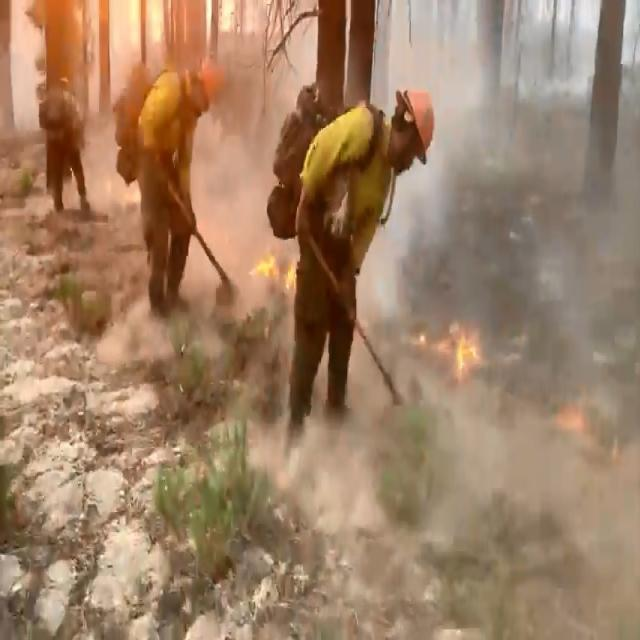Fire: (405, 315, 616, 458), (248, 240, 294, 295)
